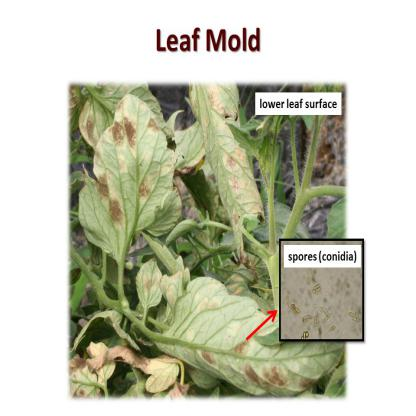tomato mold leaf: (157, 268, 338, 393), (78, 91, 177, 266), (181, 86, 263, 251), (131, 257, 165, 314)
